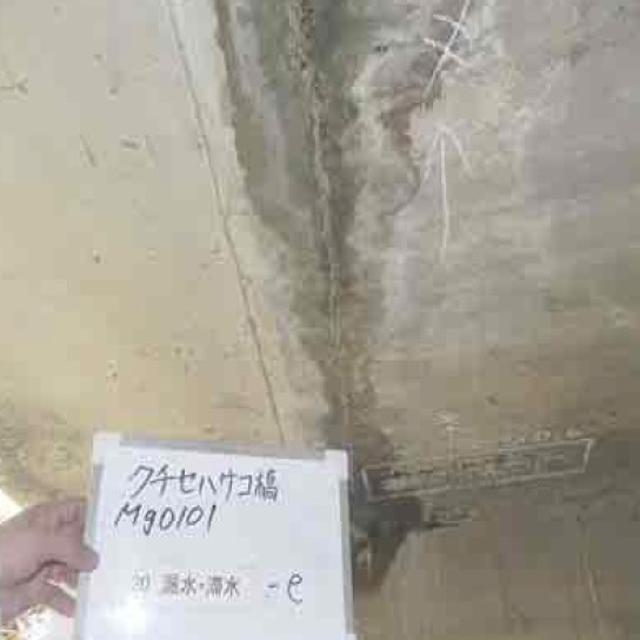leakage: (217, 3, 443, 568)
